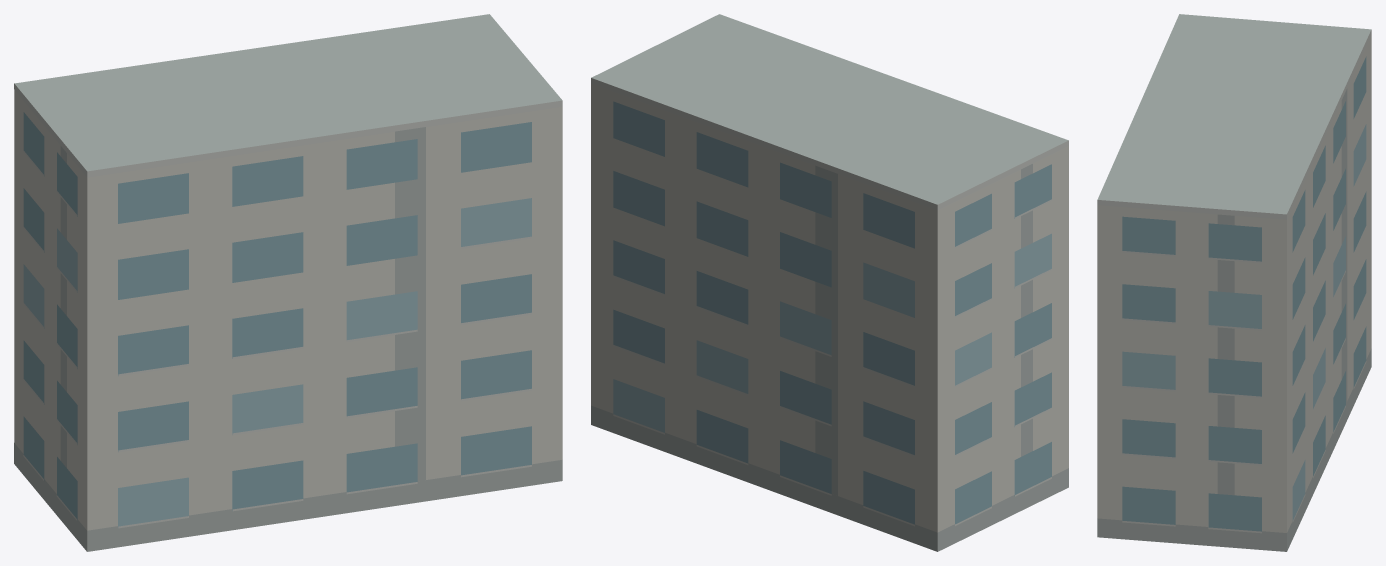
File: survey-upis-32640604.glb
3 renders of one model, left to right at view 1: azimuth 30°, elevation 25°; view 2: azimuth 150°, elevation 25°; view 3: azimuth 270°, elevation 25°, orthographic. The views are drawn at different scales.
Parts seen in each view (by area): view 1: survey-upis-32640604.tmp; view 2: survey-upis-32640604.tmp; view 3: survey-upis-32640604.tmp.
Part boxes in pixels (left/top/right/bottom): survey-upis-32640604.tmp: left=14, top=14, right=562, bottom=551; survey-upis-32640604.tmp: left=591, top=14, right=1068, bottom=551; survey-upis-32640604.tmp: left=1097, top=14, right=1371, bottom=551.
Size of the model in its own units: 19.44 by 15.25 by 11.24.
